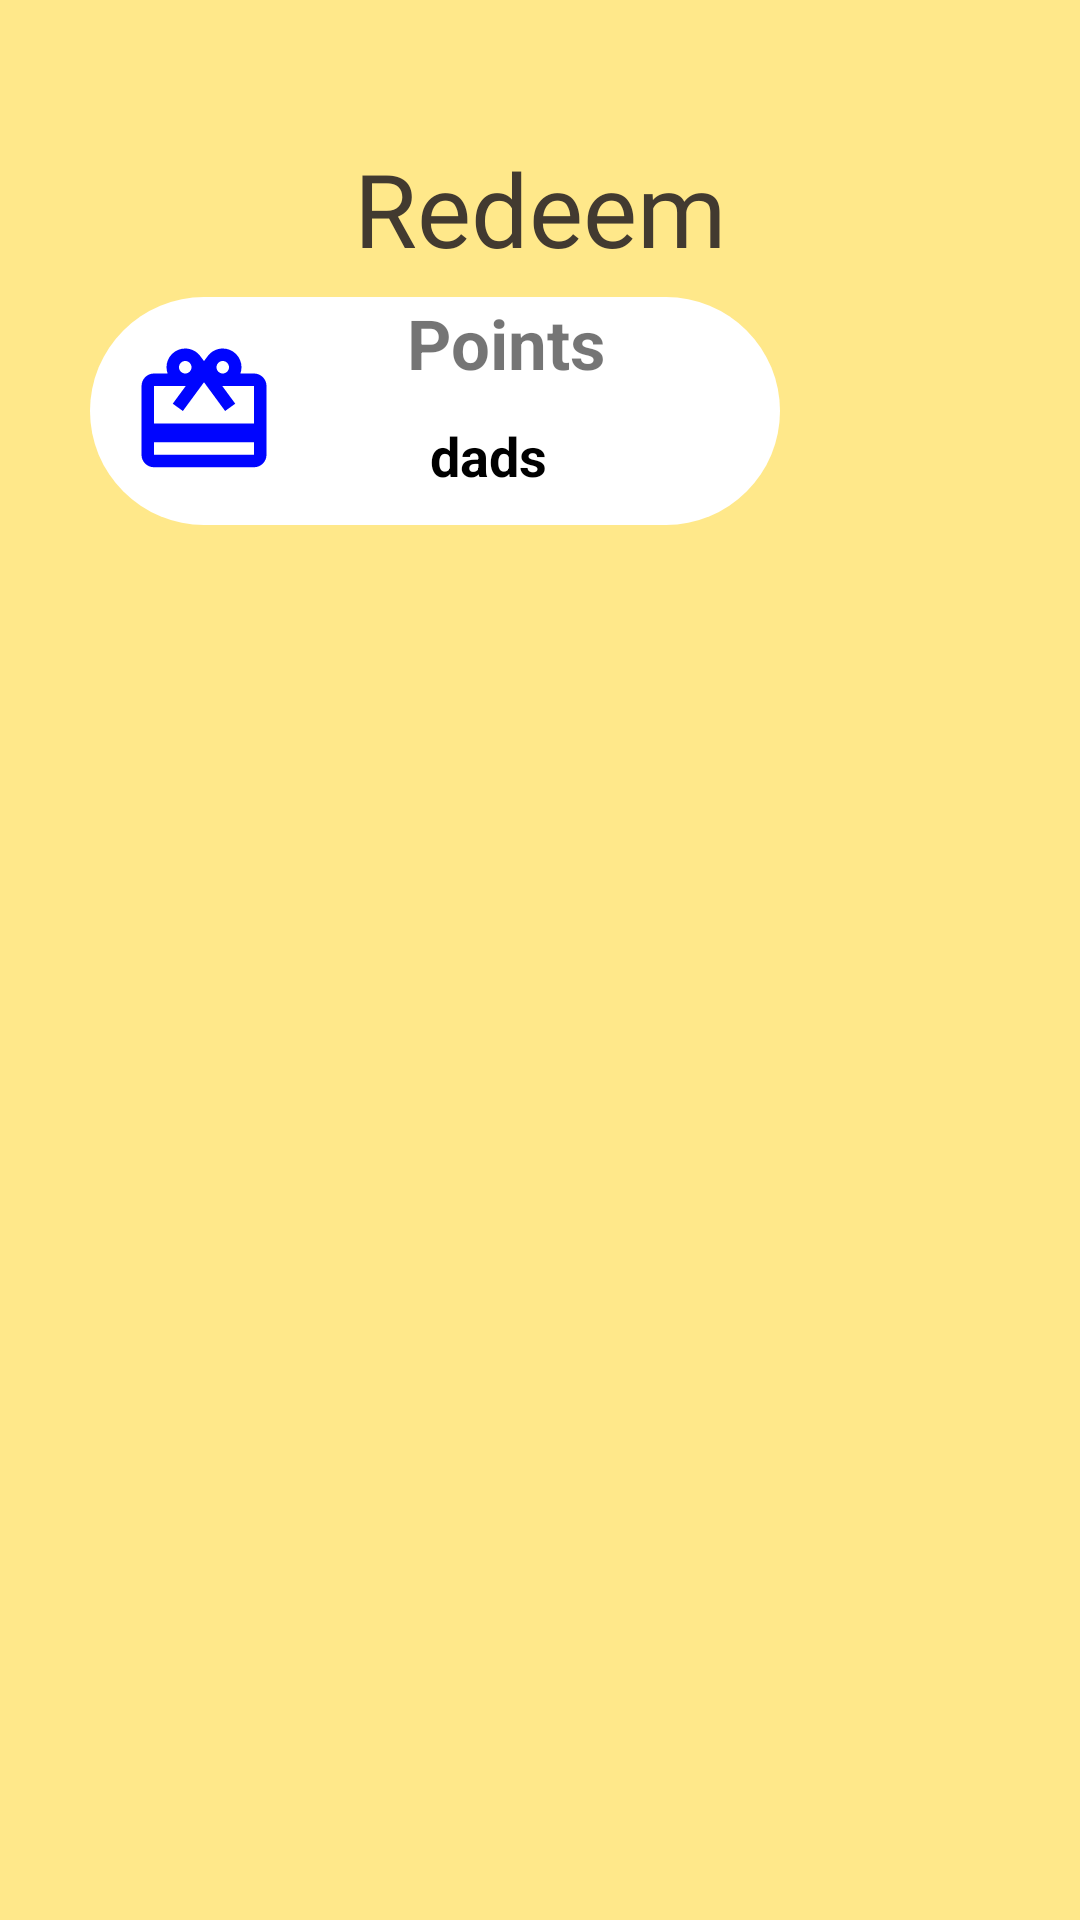

Point at icon controls on the screen. Image size 1080 x 1920, points as point (x, y).
giftcard: point (204, 411)
